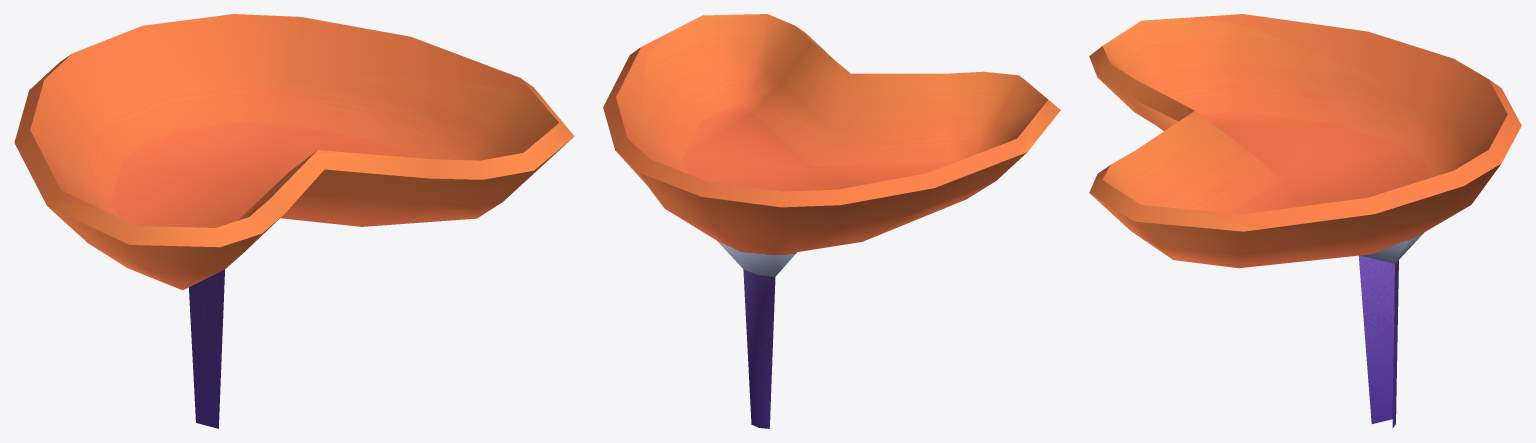
Rendered from D_CoralReef.192.glb.
3 views of the same model, side by side, from view 1: azimuth 30°, elevation 25°; view 2: azimuth 150°, elevation 25°; view 3: azimuth 270°, elevation 25° (orthographic). The views are drawn at different scales.
Parts seen in each view (by area): view 1: D_CoralReef.192; view 2: D_CoralReef.192; view 3: D_CoralReef.192.
Part boxes in pixels (x1,y1,x2,y2): D_CoralReef.192: (14,14,574,428); D_CoralReef.192: (603,14,1060,428); D_CoralReef.192: (1089,14,1521,428).
Size of the model in its own units: 0.5007 by 0.3454 by 0.4319.
1 material, 1 textured.
